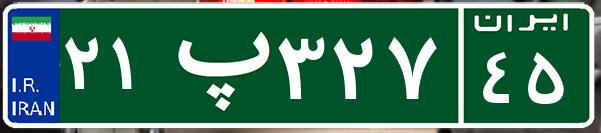1: (110, 28, 158, 105)
2: (330, 28, 385, 110), (57, 26, 110, 107)
3: (273, 28, 330, 110)
4: (475, 38, 525, 113)
5: (525, 38, 570, 115)
7: (385, 28, 445, 110)
پ: (158, 15, 273, 115)
